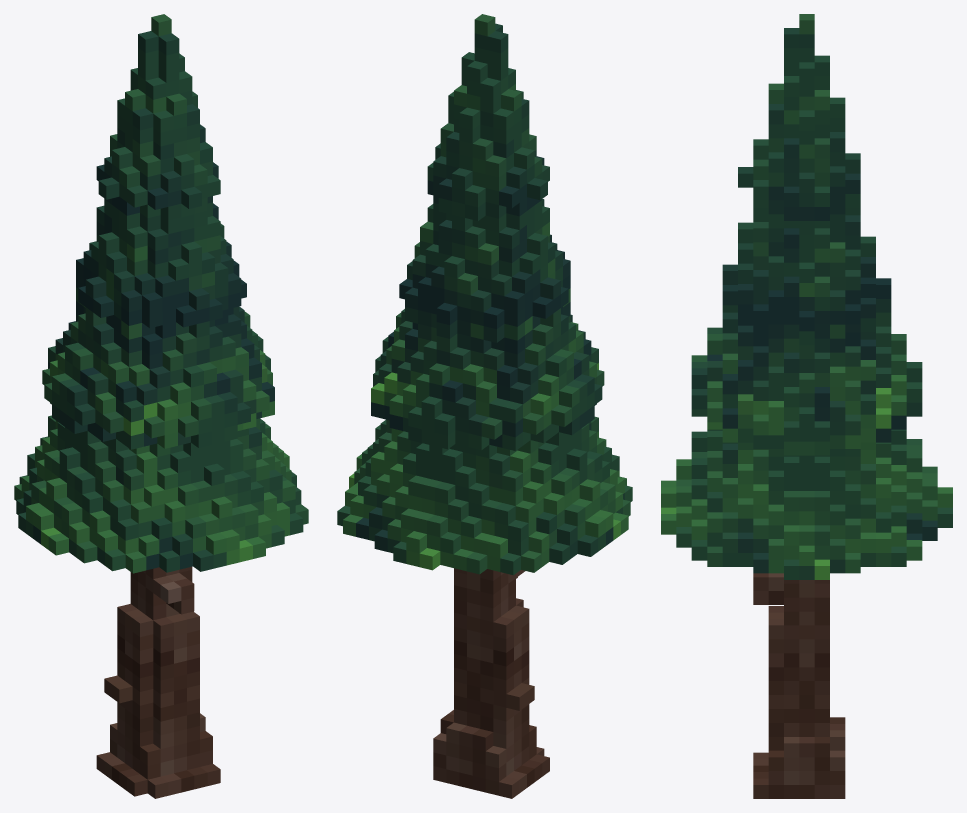
File: Conifer6.fbx
The picture shows the model from 3 angles, left to right: view 1: azimuth 30°, elevation 25°; view 2: azimuth 150°, elevation 25°; view 3: azimuth 270°, elevation 25°; orthographic projection.
Visible parts, largest first — view 1: Conifer6; view 2: Conifer6; view 3: Conifer6.
Part boxes in pixels (x1,y1,x2,y2): Conifer6: (14,14,308,798); Conifer6: (337,14,632,798); Conifer6: (661,14,952,798).
Size of the model in its own units: 1.9 by 5.5 by 1.9.
